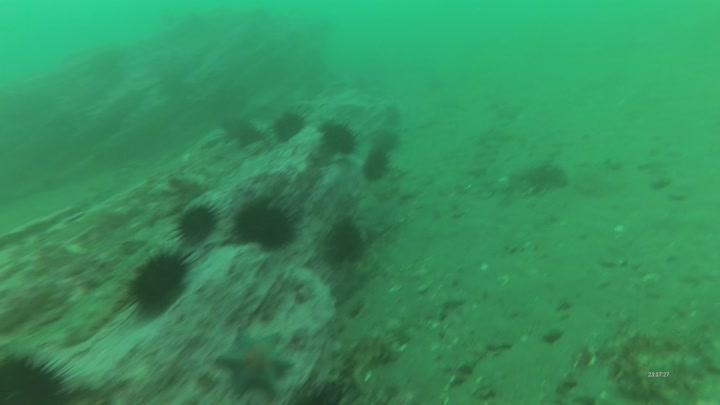urchin: (1, 347, 76, 405), (121, 248, 189, 306), (229, 194, 300, 249), (168, 200, 218, 248), (325, 207, 368, 254), (319, 116, 359, 159), (268, 107, 313, 144), (361, 144, 395, 184)
